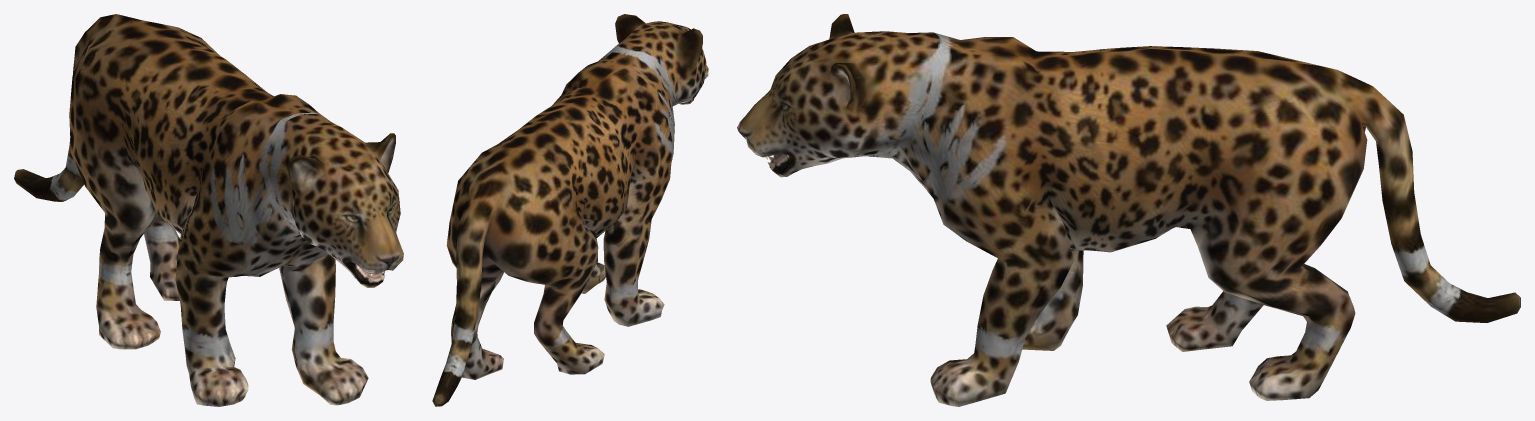
The model's file is body-base.glb.
The picture shows the model from 3 angles, left to right: view 1: azimuth 30°, elevation 25°; view 2: azimuth 150°, elevation 25°; view 3: azimuth 270°, elevation 25°; orthographic projection. The views are drawn at different scales.
Bounding box in the file's own units: 0.8146 × 1.55 × 3.27.
Materials: 1 (1 with a texture image).
